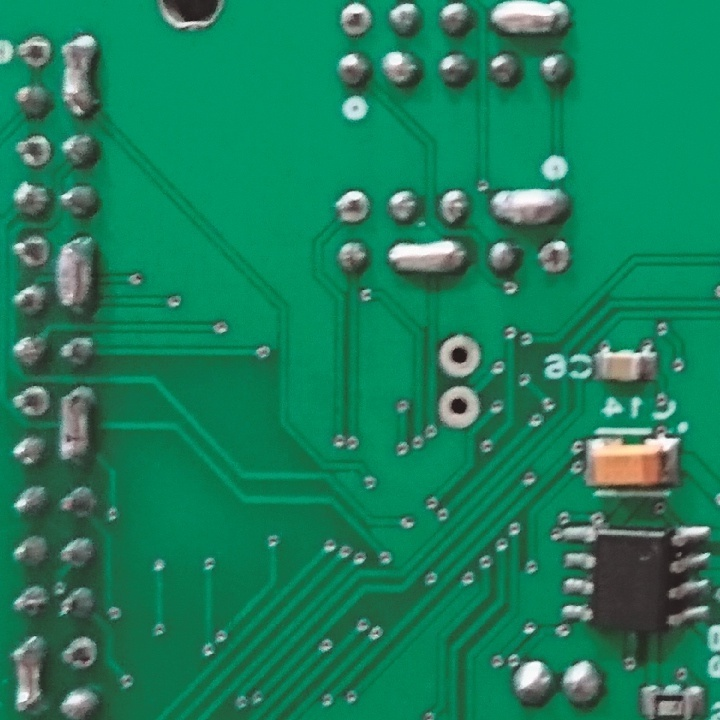F: (436, 330, 484, 378), (436, 382, 480, 433), (16, 31, 56, 73), (11, 130, 53, 170), (11, 231, 54, 270), (57, 635, 102, 672), (334, 186, 373, 228), (11, 382, 52, 421), (334, 2, 376, 40), (535, 238, 573, 275)
P: (487, 183, 568, 227), (60, 31, 101, 113), (11, 632, 49, 719), (488, 1, 576, 37), (387, 239, 467, 276), (56, 235, 93, 315), (58, 386, 93, 466)
